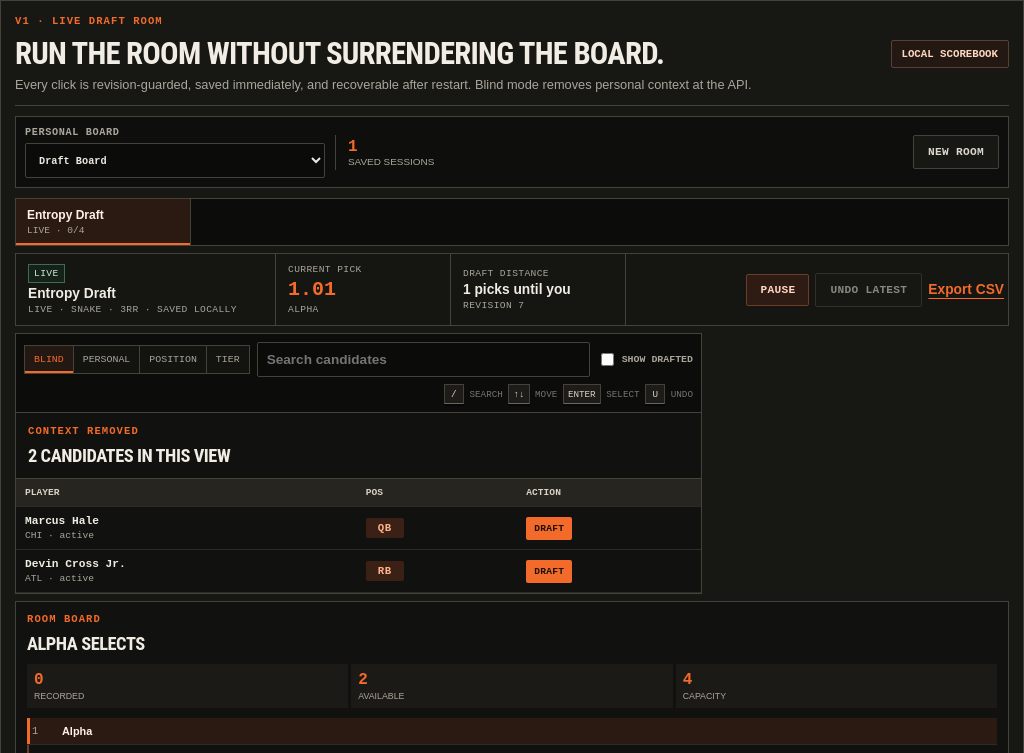
it: DraftWorkspace › submits exact revision and current-pick guards
The width and height of the screenshot is (1024, 753).
Click the button "Draft" in the row of "Marcus Hale". click: (549, 528)
box: [526,516,572,540]
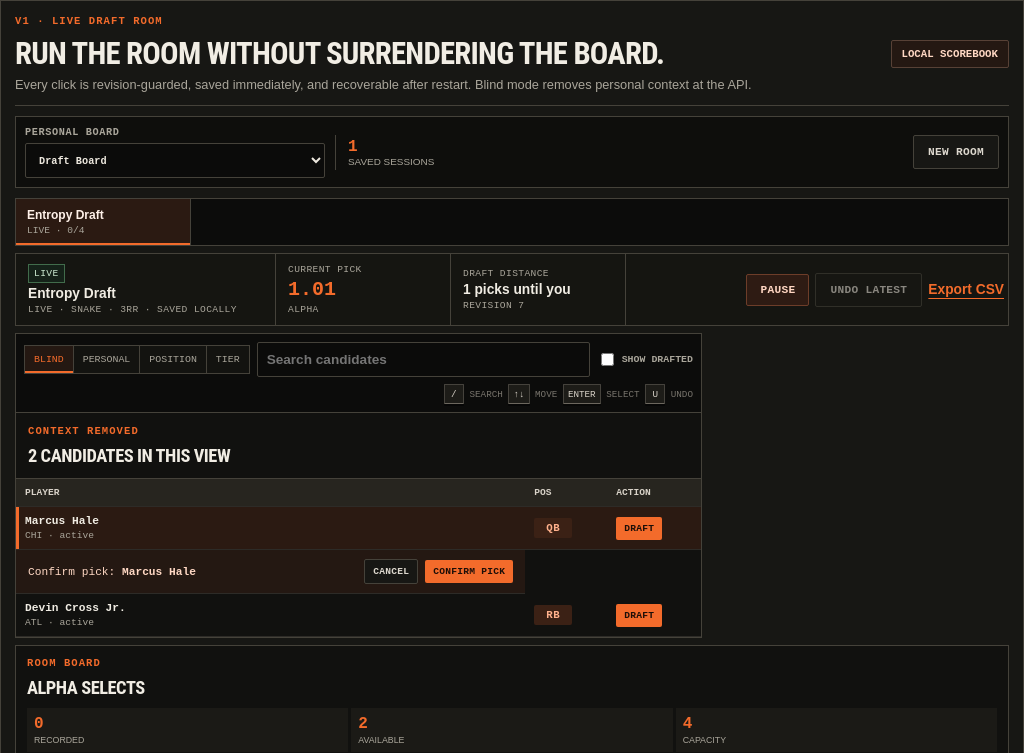
Check: the button "Confirm pick" is enabled
Click the button "Confirm pick". click: (469, 572)
box: [425,560,513,583]
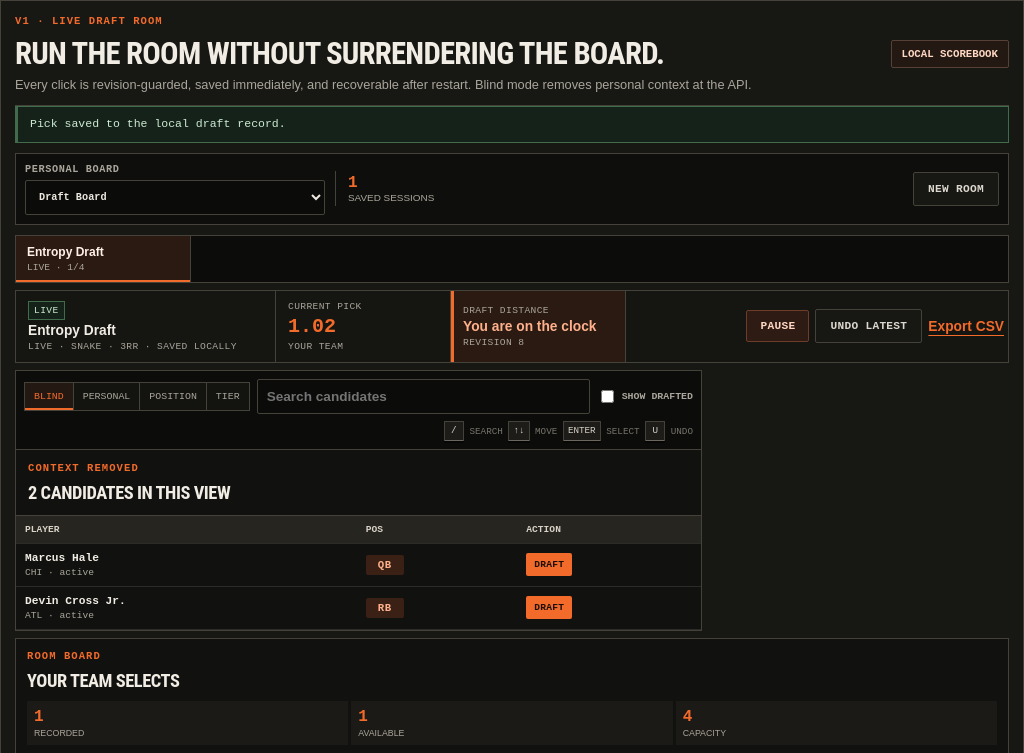
Check: the text "You are on the clock" is shown, box [463,319,613,334]
